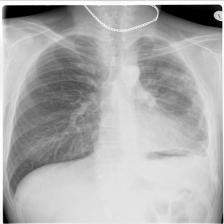tuberculosis: (5, 30, 216, 211)
